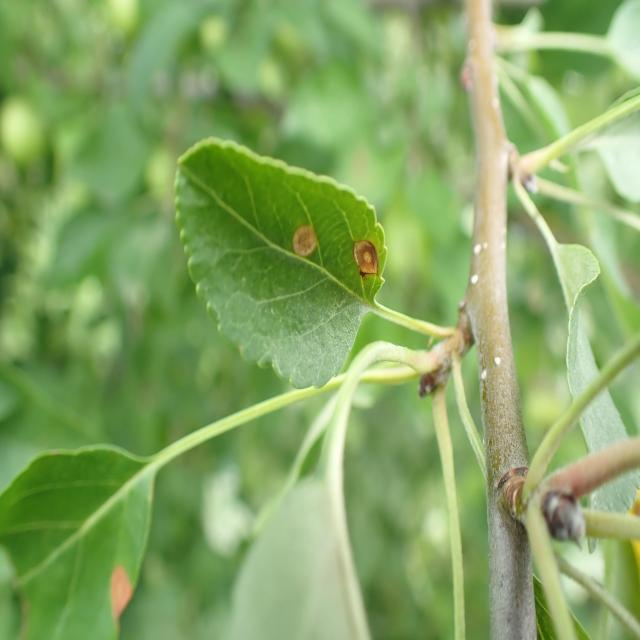Black Rot: (268, 214, 329, 272), (337, 232, 389, 294)
